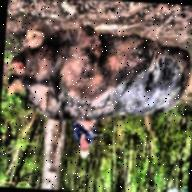boar: (4, 22, 192, 131)
